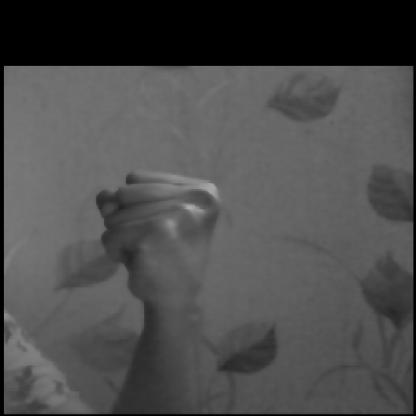fist: (94, 159, 228, 338)
